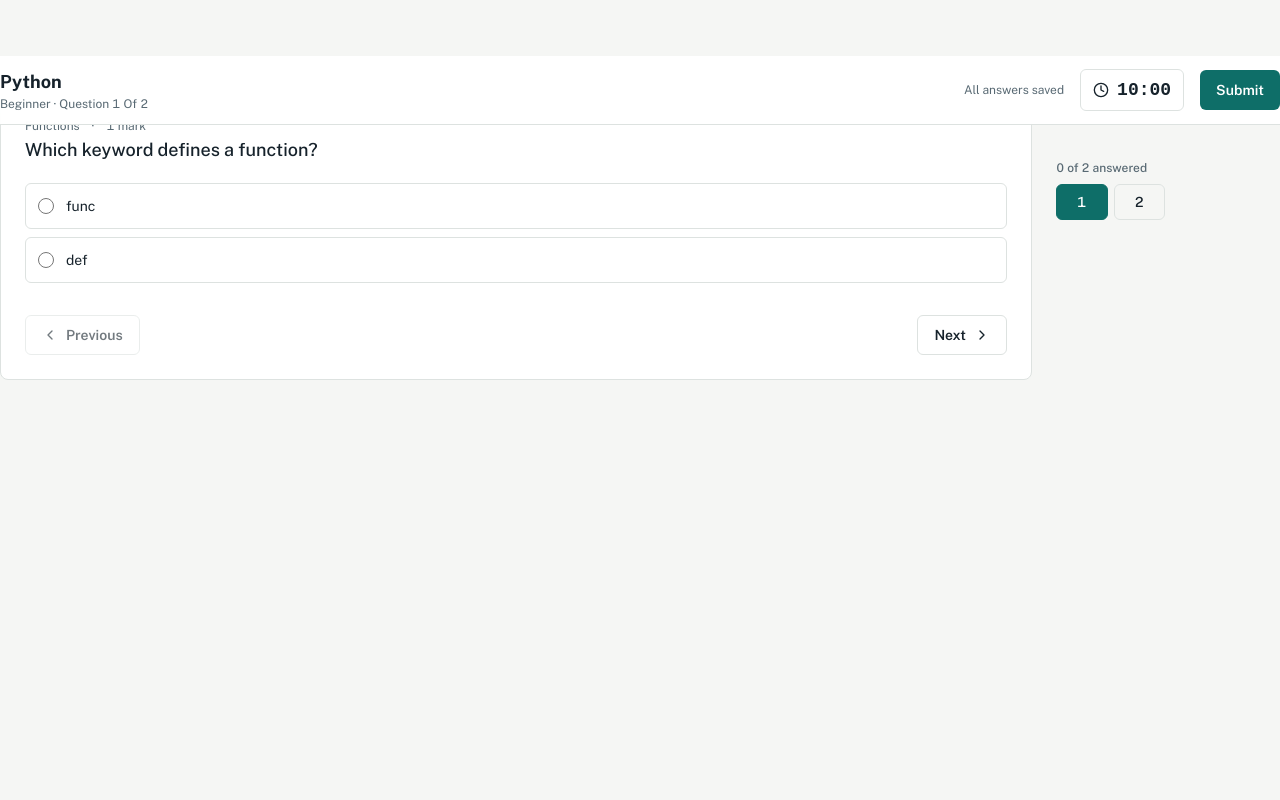
Test: Assessment attempt › warns about unanswered questions before submitting
Expected: the text "Which keyword defines a function?" is shown, [25, 139, 318, 160]
Click the button "Submit". click: (1240, 90)
box: [1200, 70, 1279, 110]
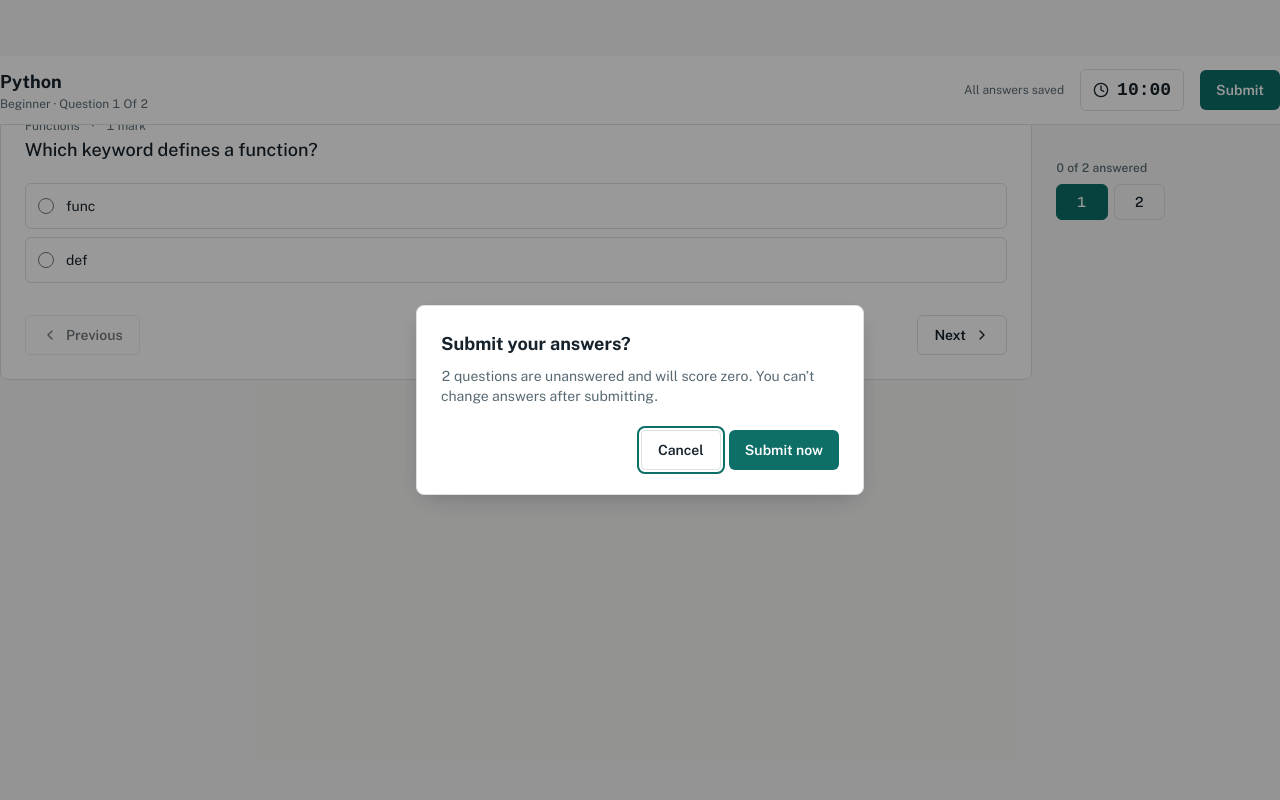
Now the text "2 questions are unanswered and will score zero" is shown, box [441, 368, 753, 384]
